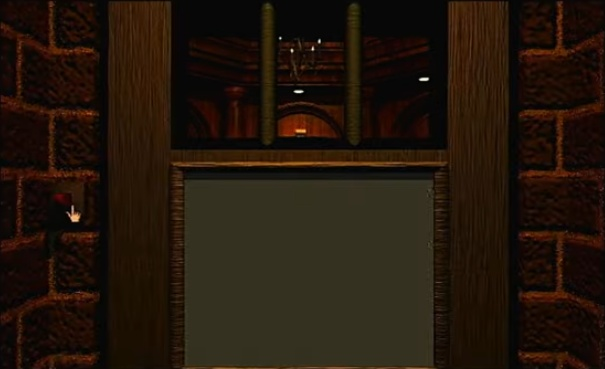Pointer: (63, 202, 86, 225)
